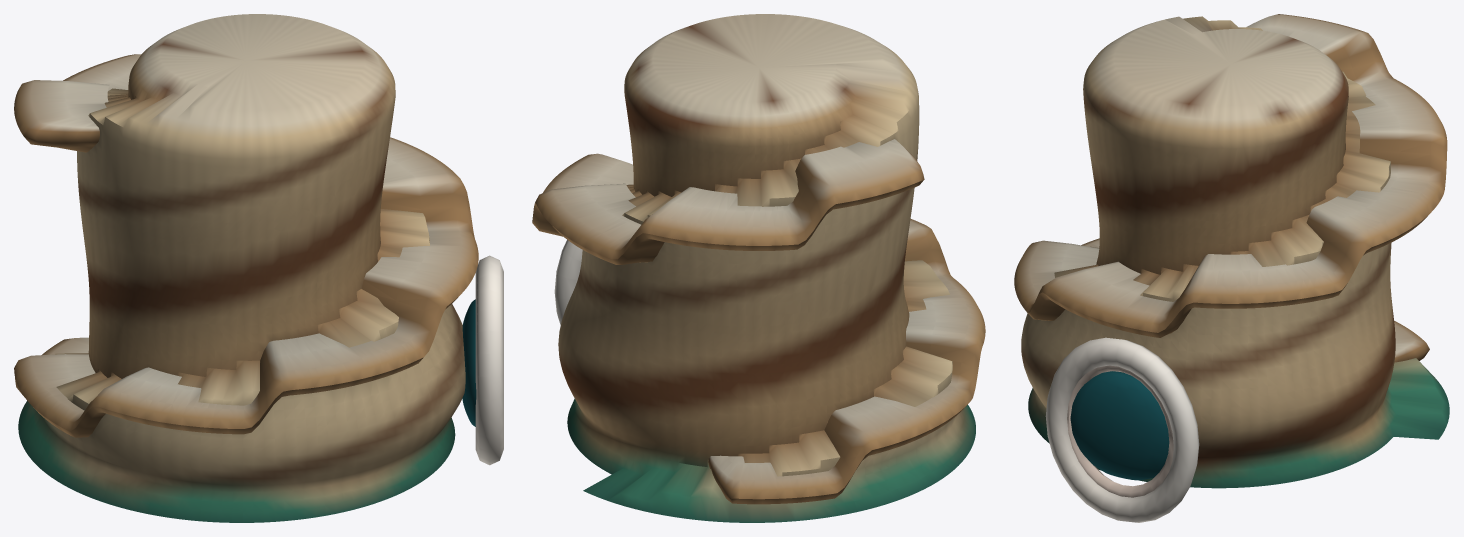
The model's file is grotto_snail_shell.glb.
The picture shows the model from 3 angles, left to right: view 1: azimuth 30°, elevation 25°; view 2: azimuth 150°, elevation 25°; view 3: azimuth 270°, elevation 25°; orthographic projection. The views are drawn at different scales.
Parts seen in each view (by area): view 1: grotto_snail_shell; view 2: grotto_snail_shell; view 3: grotto_snail_shell.
Boxes of the visible parts, box(x1,y1,x2,y2) form: grotto_snail_shell: box(14, 14, 503, 522); grotto_snail_shell: box(532, 14, 985, 522); grotto_snail_shell: box(1014, 14, 1449, 522).
Size of the model in its own units: 17.63 by 15.7 by 16.49.
